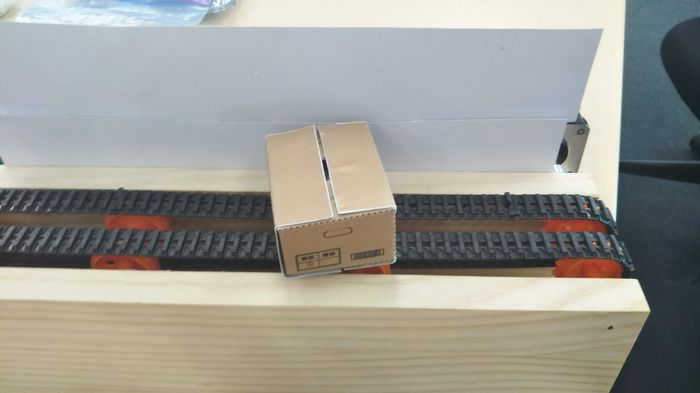box1: (261, 119, 399, 277)
